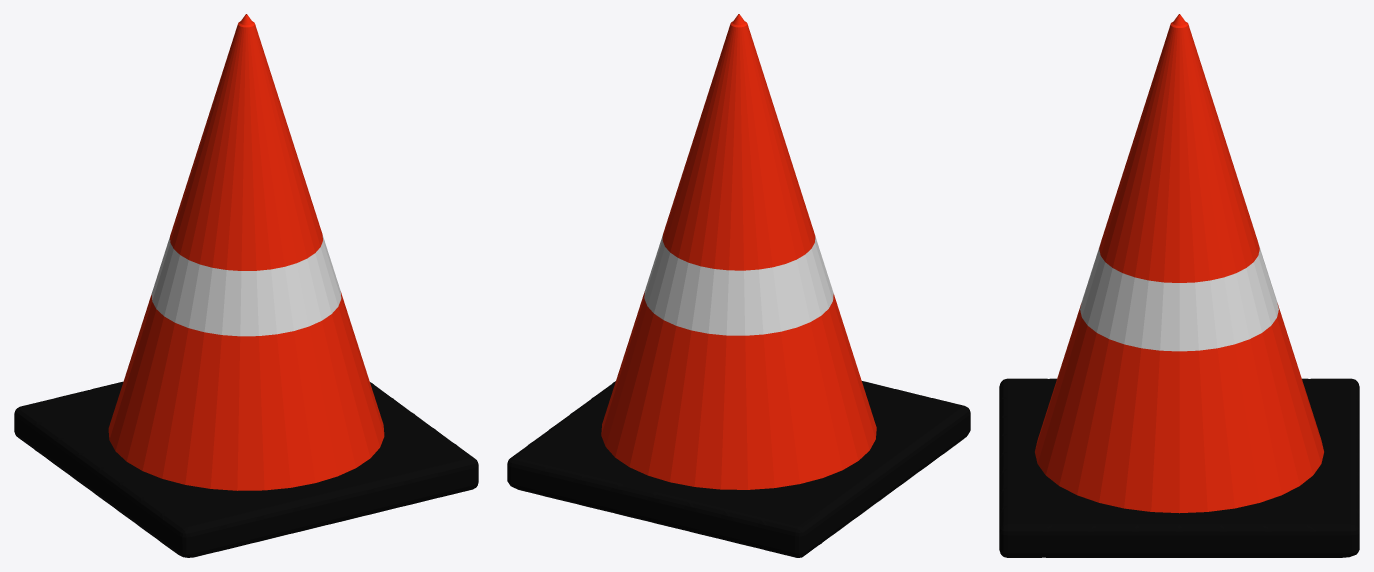
Rendered from koni.fbx.
3 views of the same model, side by side, from view 1: azimuth 30°, elevation 25°; view 2: azimuth 150°, elevation 25°; view 3: azimuth 270°, elevation 25° (orthographic). The views are drawn at different scales.
Parts seen in each view (by area): view 1: Circle; view 2: Circle; view 3: Circle.
Boxes of the visible parts, <box> form: Circle: <box>14,14,478,557</box>; Circle: <box>507,14,970,557</box>; Circle: <box>999,14,1359,557</box>.
Size of the model in its own units: 171 by 246 by 171.
